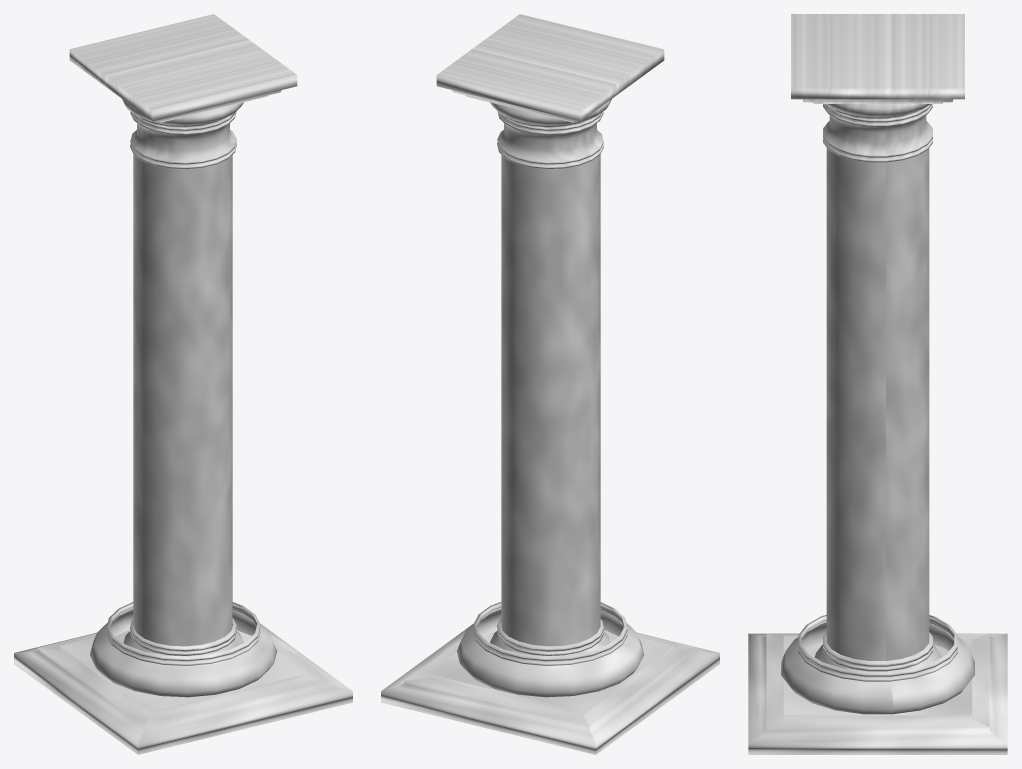
The model's file is greek pillar.fbx.
3 renders of one model, left to right at view 1: azimuth 30°, elevation 25°; view 2: azimuth 150°, elevation 25°; view 3: azimuth 270°, elevation 25°, orthographic. The views are drawn at different scales.
Parts seen in each view (by area): view 1: ionic_column.Shape, doric_pedestal.Shape, doric_capital.Shape, ionic_pedestal.Shape; view 2: ionic_column.Shape, doric_pedestal.Shape, doric_capital.Shape, ionic_pedestal.Shape; view 3: ionic_column.Shape, doric_pedestal.Shape, doric_capital.Shape, ionic_pedestal.Shape.
Part boxes in pixels (x1,y1,x2,y2): ionic_column.Shape: (133, 154, 232, 646); doric_pedestal.Shape: (14, 602, 352, 754); doric_capital.Shape: (69, 14, 297, 168); ionic_pedestal.Shape: (123, 618, 243, 656); ionic_column.Shape: (501, 154, 600, 646); doric_pedestal.Shape: (381, 602, 719, 754); doric_capital.Shape: (436, 14, 664, 168); ionic_pedestal.Shape: (490, 618, 610, 656); ionic_column.Shape: (826, 148, 929, 660); doric_pedestal.Shape: (748, 615, 1007, 754); doric_capital.Shape: (791, 14, 964, 162); ionic_pedestal.Shape: (815, 632, 940, 671).
Bounding box in the file's own units: 125 × 345 × 125.
Materials: 2 (2 with a texture image).
